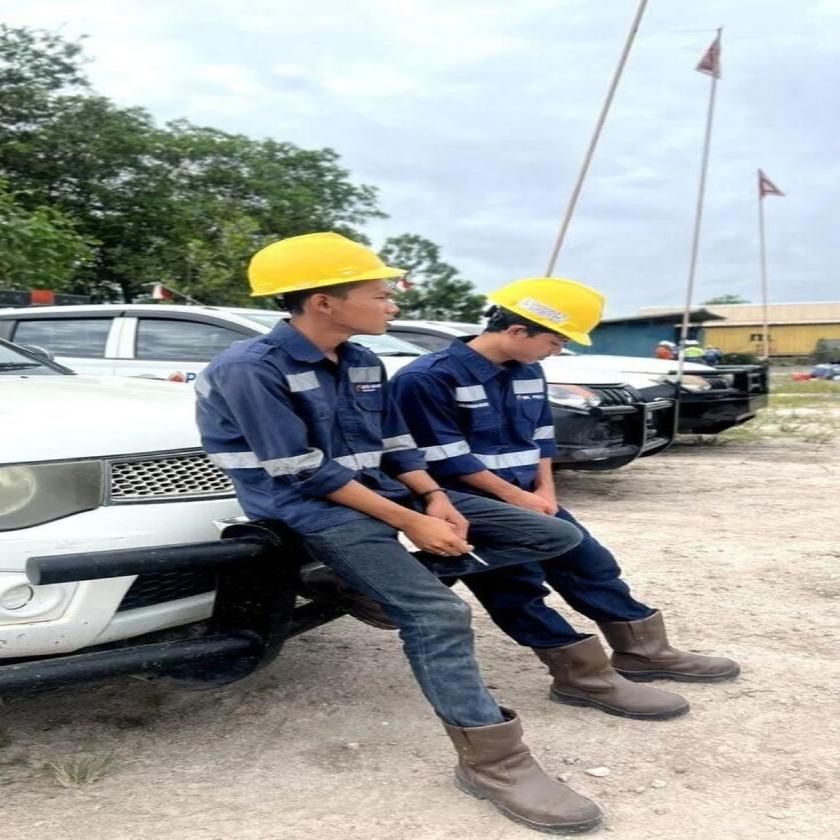Con_casco: (242, 231, 409, 356), (480, 271, 616, 381)
